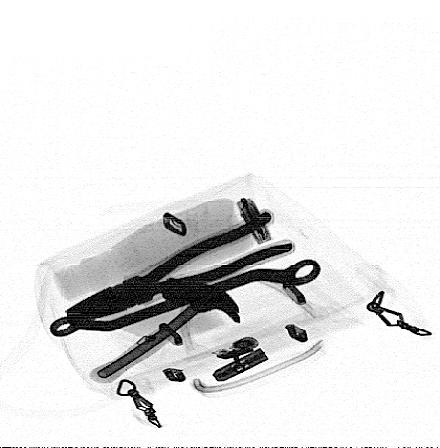Hammer: (86, 278, 241, 385)
Pliers: (63, 211, 297, 326)
Wrench: (46, 258, 322, 337)
